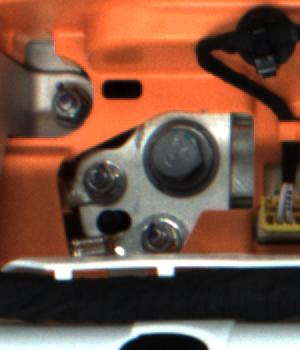nut_b: (143, 116, 223, 196)
screw_s: (78, 156, 122, 196), (141, 212, 183, 247), (49, 86, 79, 115)
